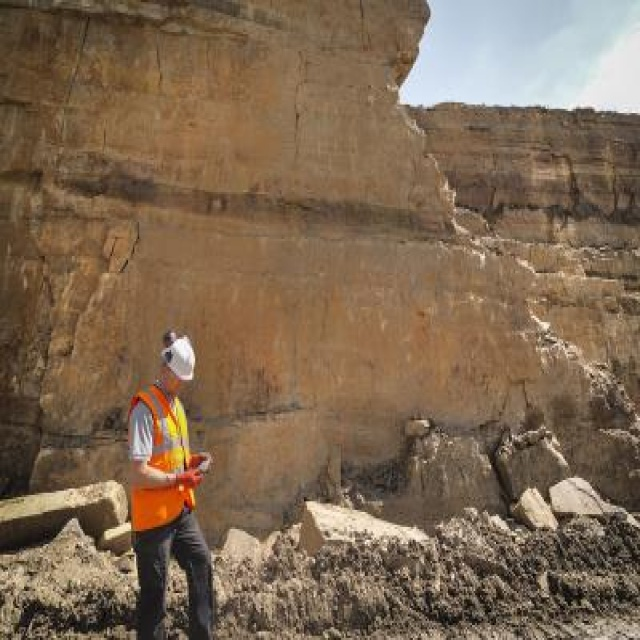Helmet: (147, 330, 204, 403)
Reflective vest: (124, 385, 196, 532)
